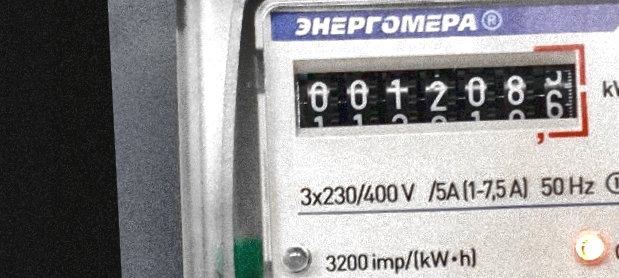0: (462, 72, 489, 108), (345, 74, 370, 112), (307, 76, 329, 114)
1: (386, 74, 405, 112)
2: (424, 77, 451, 113)
6: (541, 84, 566, 120)
8: (501, 71, 526, 108)
screen: (281, 32, 599, 166)
